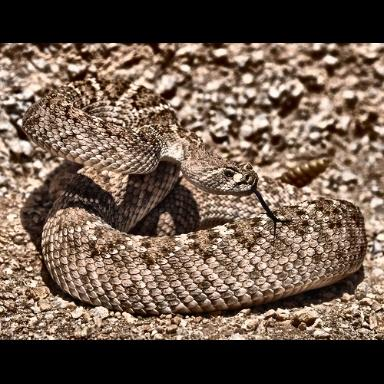snake: (20, 51, 356, 316)
